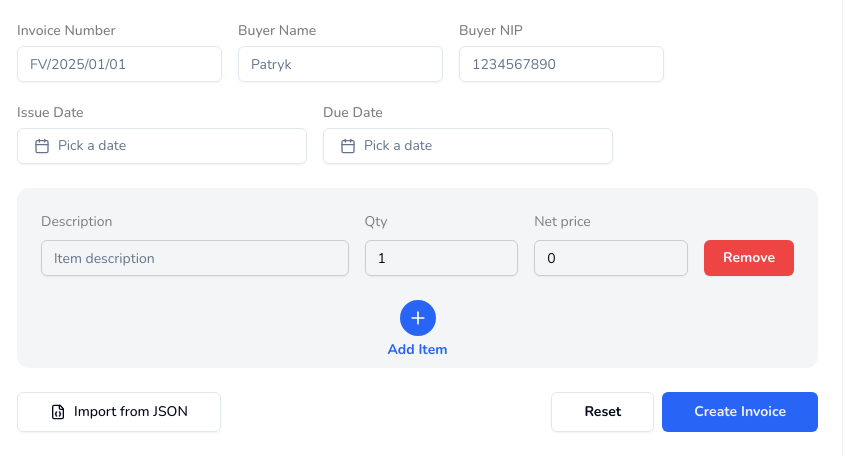
InvoiceForm › resets form to default values
Type "FV-XYZ" into the field labelled "Invoice Number" at coordinates (120, 64), box top-left (17, 46), bottom-right (222, 82)
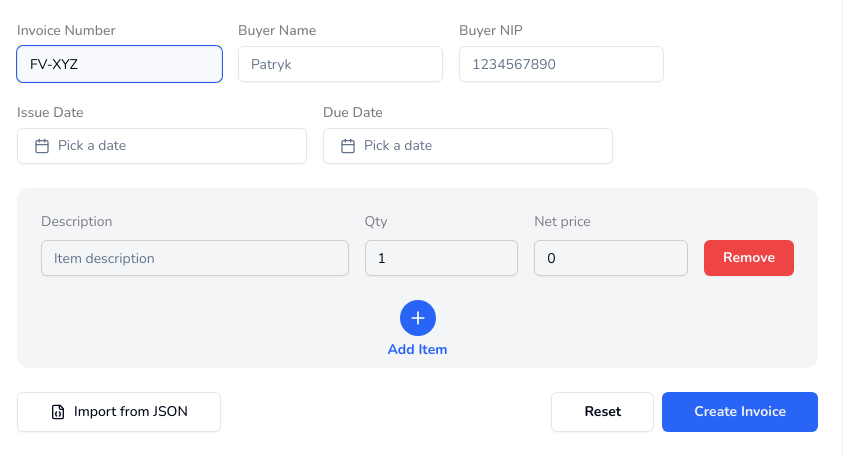
Click the button "Reset" at coordinates (603, 412), box top-left (551, 392), bottom-right (654, 432)
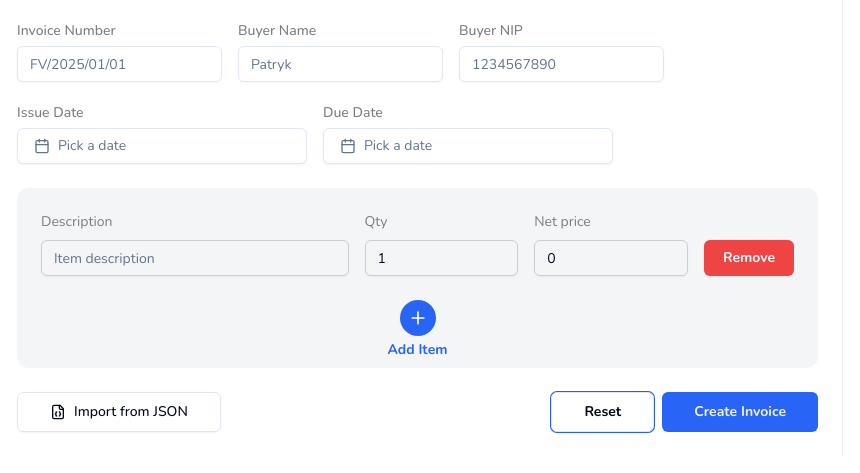
Expected: the number of fields with placeholder "Item description" is 1, top-left (41, 240), bottom-right (348, 276)
Expected: the field labelled "Invoice Number" is empty, top-left (17, 46), bottom-right (222, 82)
